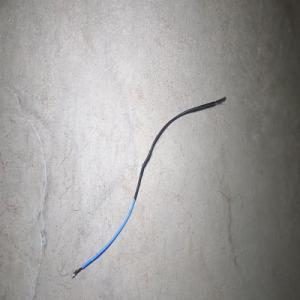Wire: (71, 96, 225, 278)
